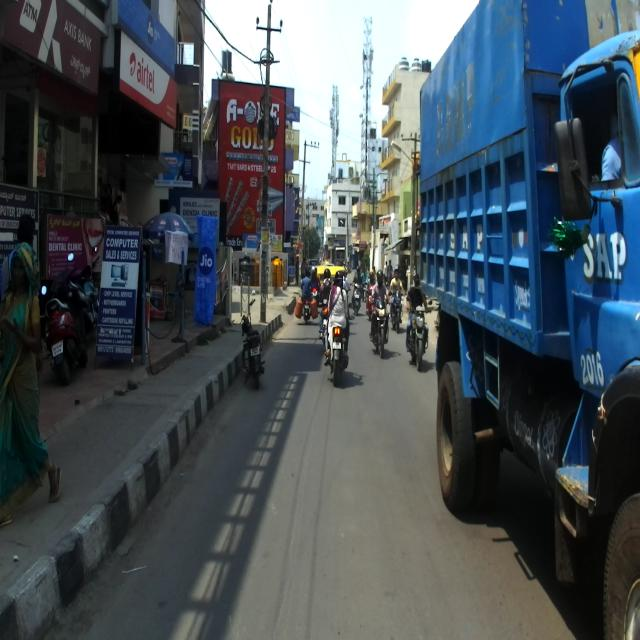electric pole ahead at: (258, 0, 280, 339)
motorcycle ahead at: (234, 293, 268, 393)
person ahead at: (0, 212, 65, 523)
truck ahead at: (417, 0, 640, 640)
